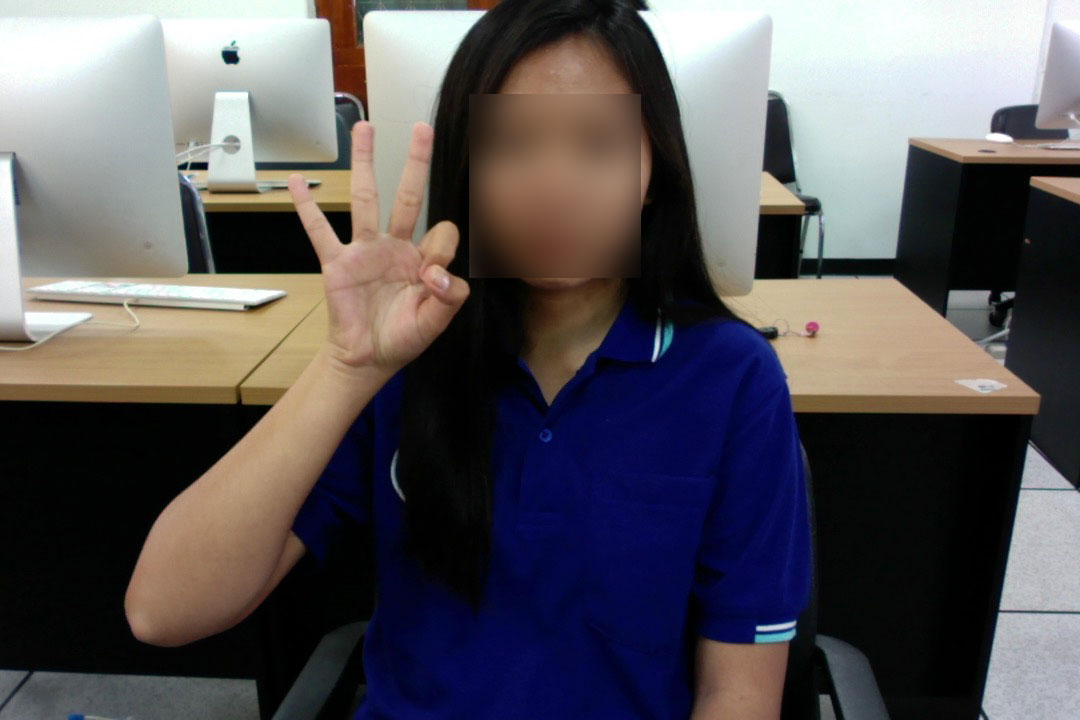for: (283, 107, 475, 386)
